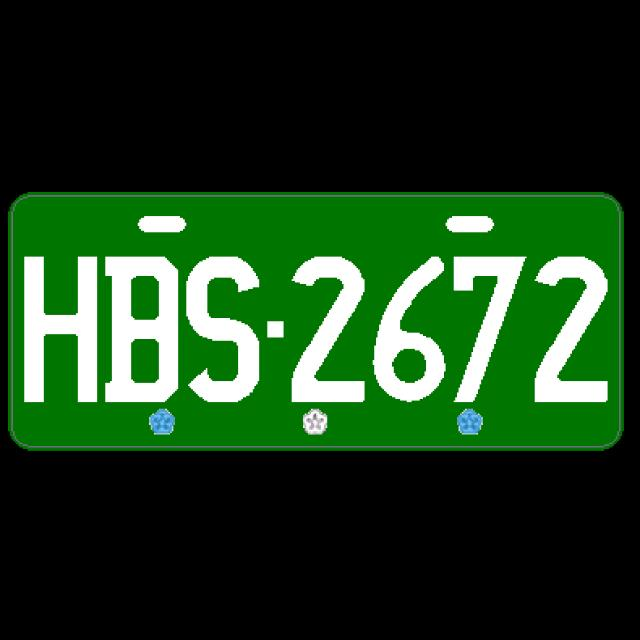plate: (6, 188, 628, 454)
